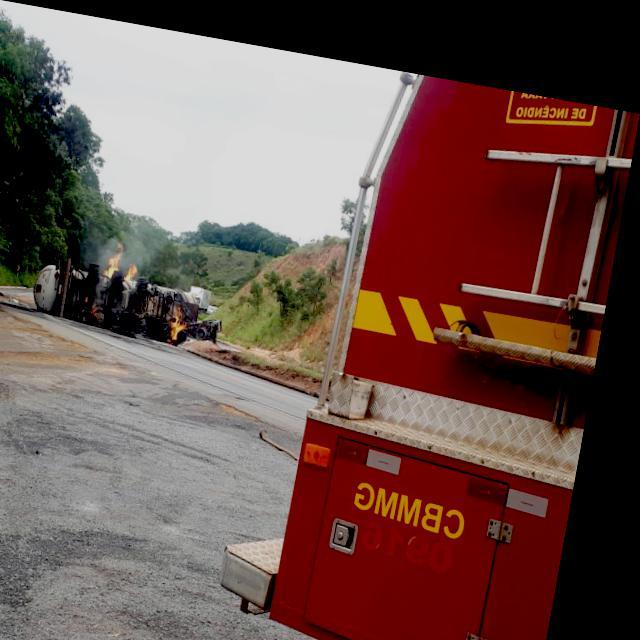Fire: (177, 300, 201, 334), (112, 238, 134, 274), (130, 255, 148, 275)
